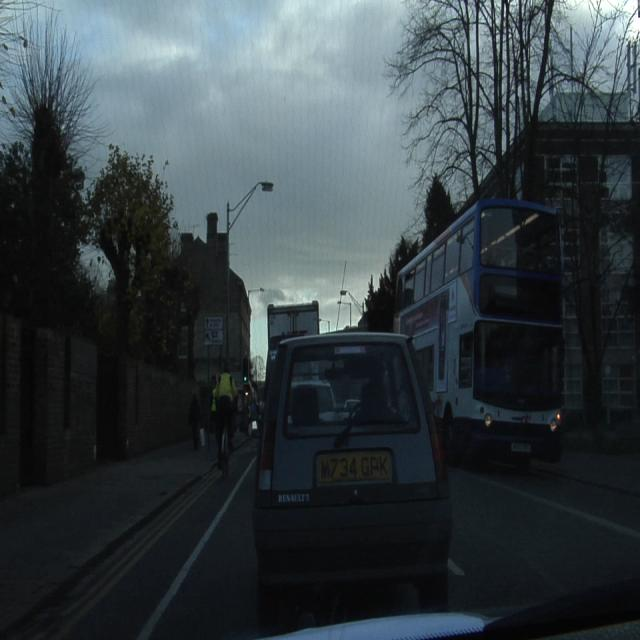Bicyclist: (212, 362, 238, 472)
Car: (253, 332, 450, 619)
Road: (142, 470, 428, 638), (23, 442, 255, 639)
Tree: (388, 0, 631, 201), (0, 103, 91, 329), (88, 145, 174, 355)
Truck_Bus: (397, 200, 562, 459), (268, 301, 319, 335)
person: (188, 392, 199, 447)
